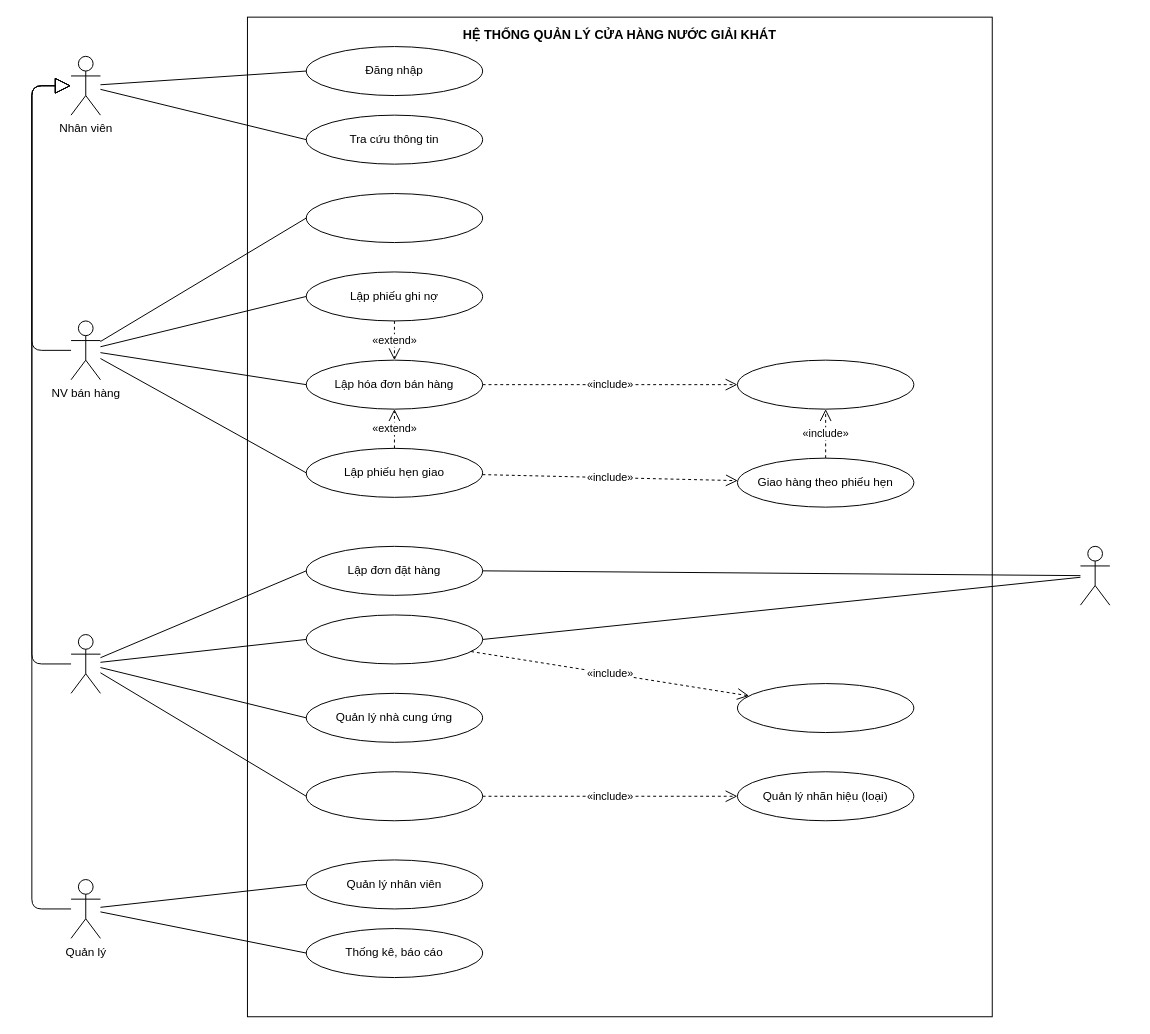
Image size: 1150x1034. Some labels were removed from this diagram. Here are the shapes that lost their labels. From the top down, the centre of each, then its label:
[394,218]: Quản lý khách hàng
[825,384]: Kiểm tra tồn kho
[1094,575]: Nhà cung ứng
[394,639]: Nhận hàng theo phiếu giao
[85,663]: NV nhập hàng
[825,708]: Cập nhật tồn kho
[394,796]: Quản lý nước giải khát
